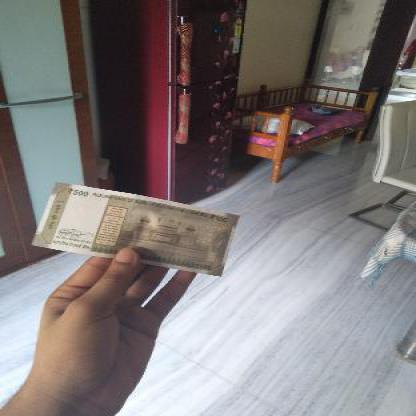New500Back: (41, 179, 239, 275)
